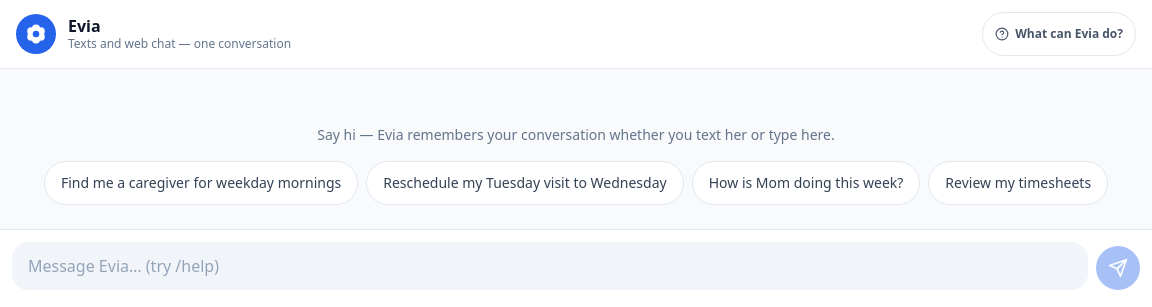
Test: CaraChat › send shows an optimistic bubble and reconciles without duplicating when the mirrored doc arrives
The width and height of the screenshot is (1152, 307).
Step 1. Type "book maria" into the text box labelled "Message Evia" → (550, 266), box x1=12 y1=242 x2=1088 y2=290
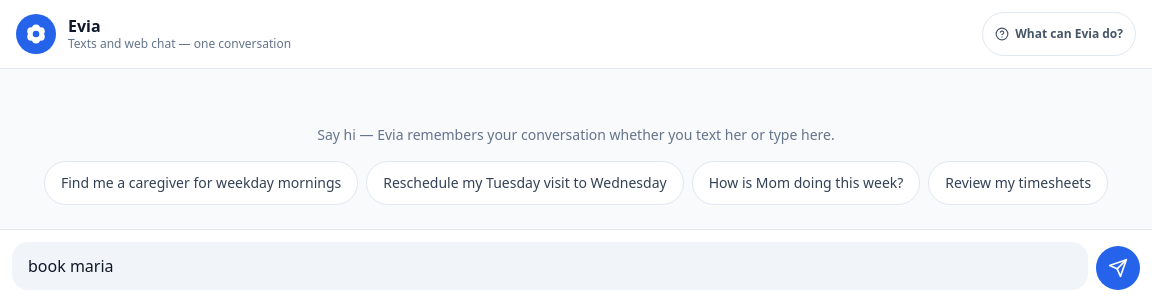
Step 2. Click the button named "Send message" → (1118, 268), box x1=1096 y1=246 x2=1140 y2=290
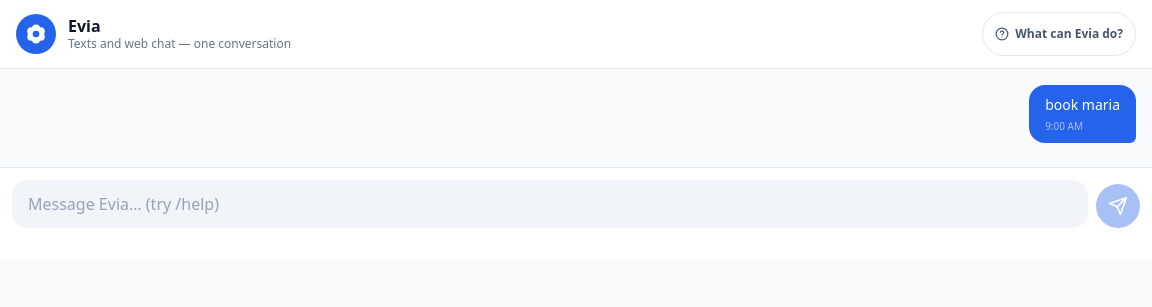
Expected: the text "book maria" is shown once, x1=1029 y1=85 x2=1136 y2=143
